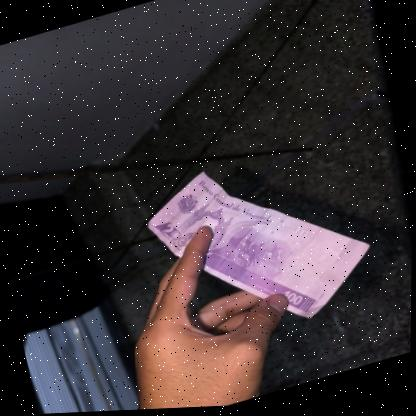vef_back: (137, 131, 386, 362)
